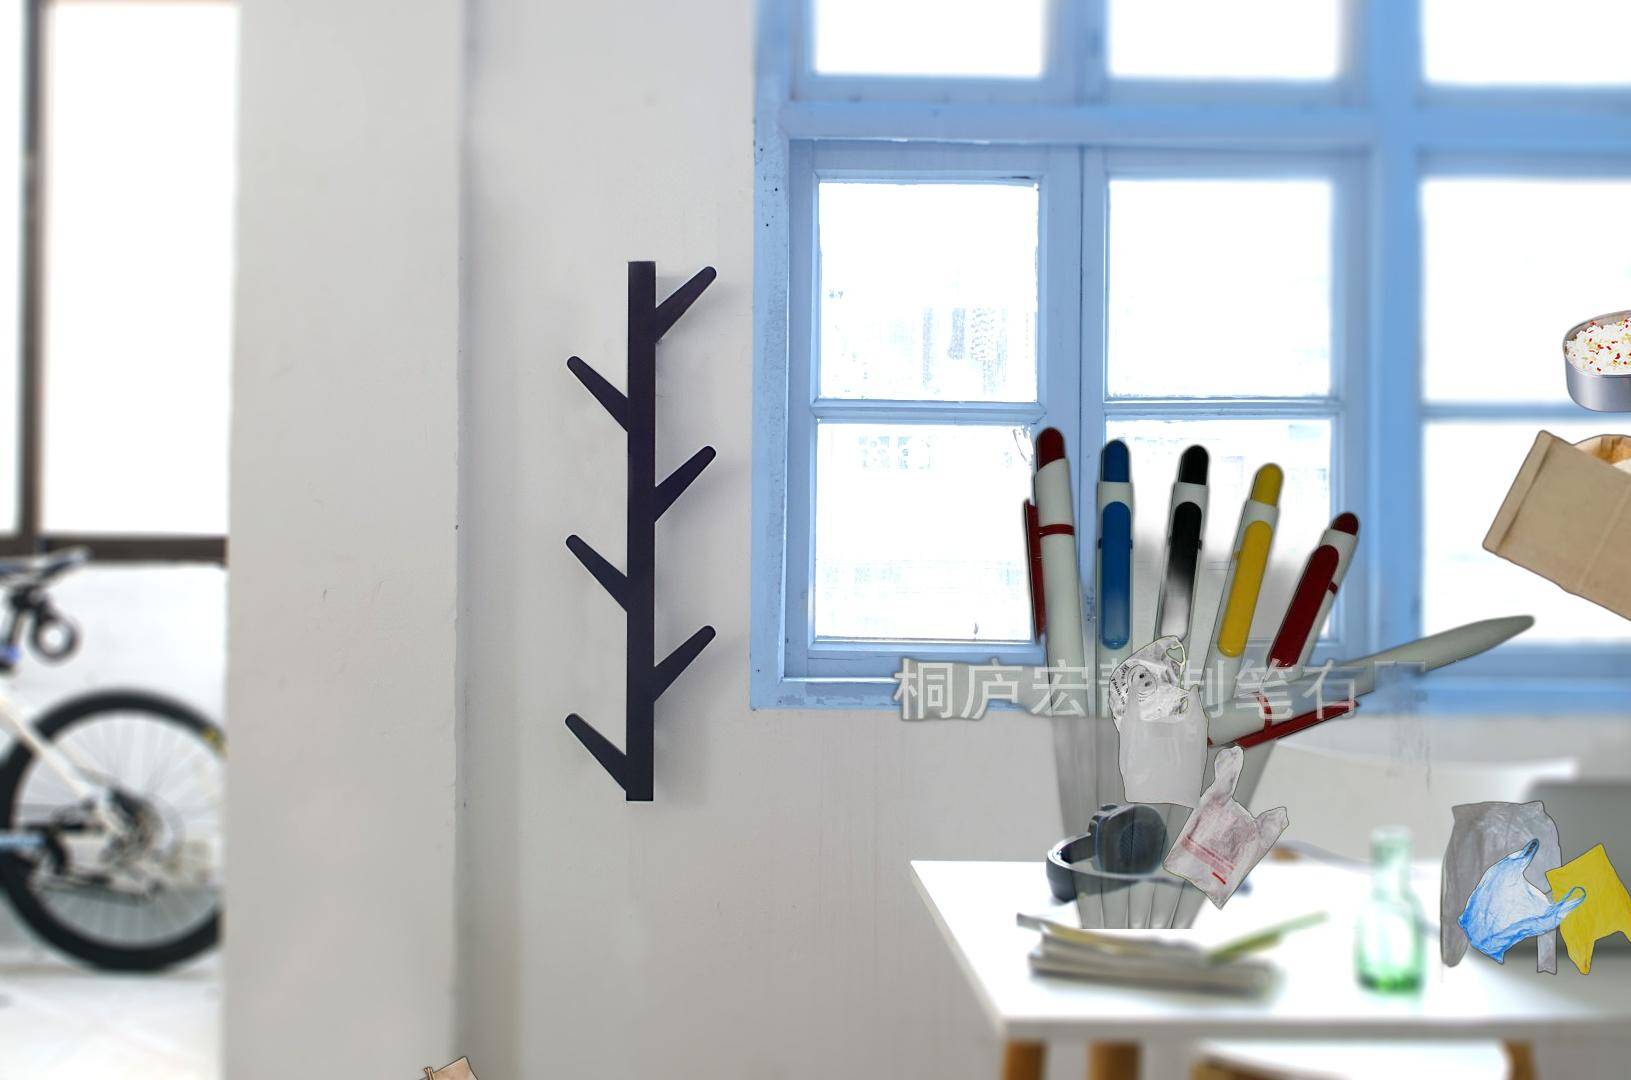biological: (1559, 227, 1631, 483)
paper-bag: (1480, 427, 1631, 634), (266, 1041, 516, 1080)
penholder: (831, 378, 1631, 929)
plastic-bag: (1384, 683, 1577, 984), (1107, 633, 1290, 914), (1456, 835, 1631, 976)
